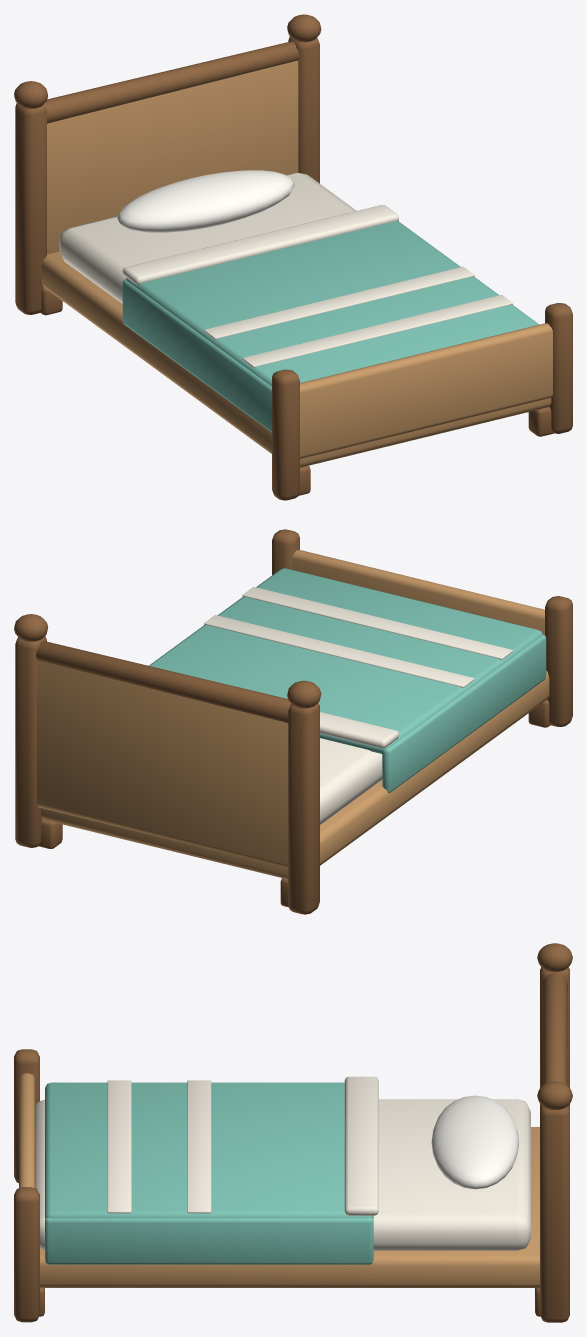
The model's file is wood-bed.glb.
3 renders of one model, top to bottom at view 1: azimuth 30°, elevation 25°; view 2: azimuth 150°, elevation 25°; view 3: azimuth 270°, elevation 25°, orthographic. The views are drawn at different scales.
Parts seen in each view (by area): view 1: bed; view 2: bed; view 3: bed.
Part boxes in pixels (left/top/right/bottom): bed: left=14, top=14, right=572, bottom=500; bed: left=14, top=529, right=572, bottom=914; bed: left=14, top=943, right=572, bottom=1322.
Size of the model in its own units: 1.82 by 1.31 by 2.81.
